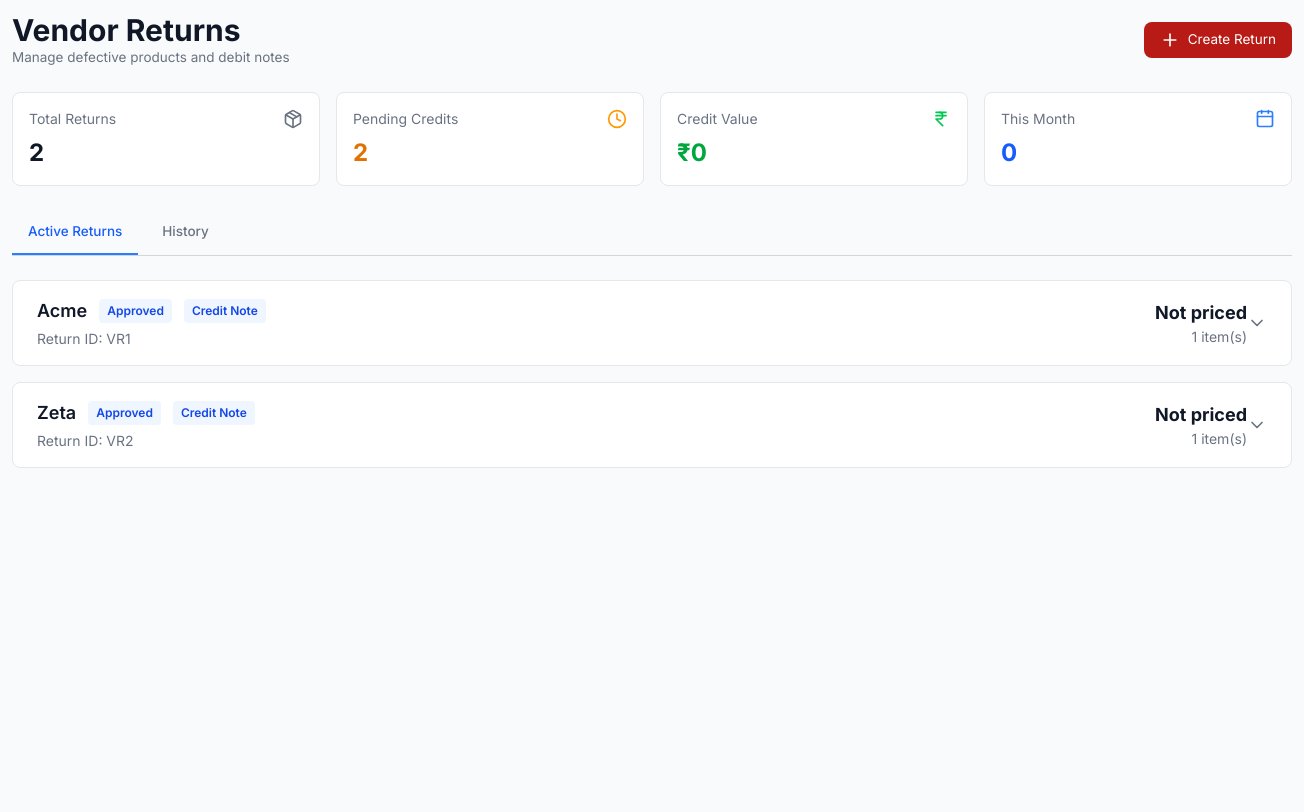
Test: the GST debit note on Vendor Returns › keeps the total, the Tally export and the issue button for ACCOUNTANT
Click the heading "Acme".
click(62, 311)  # box left=37, top=297, right=87, bottom=325
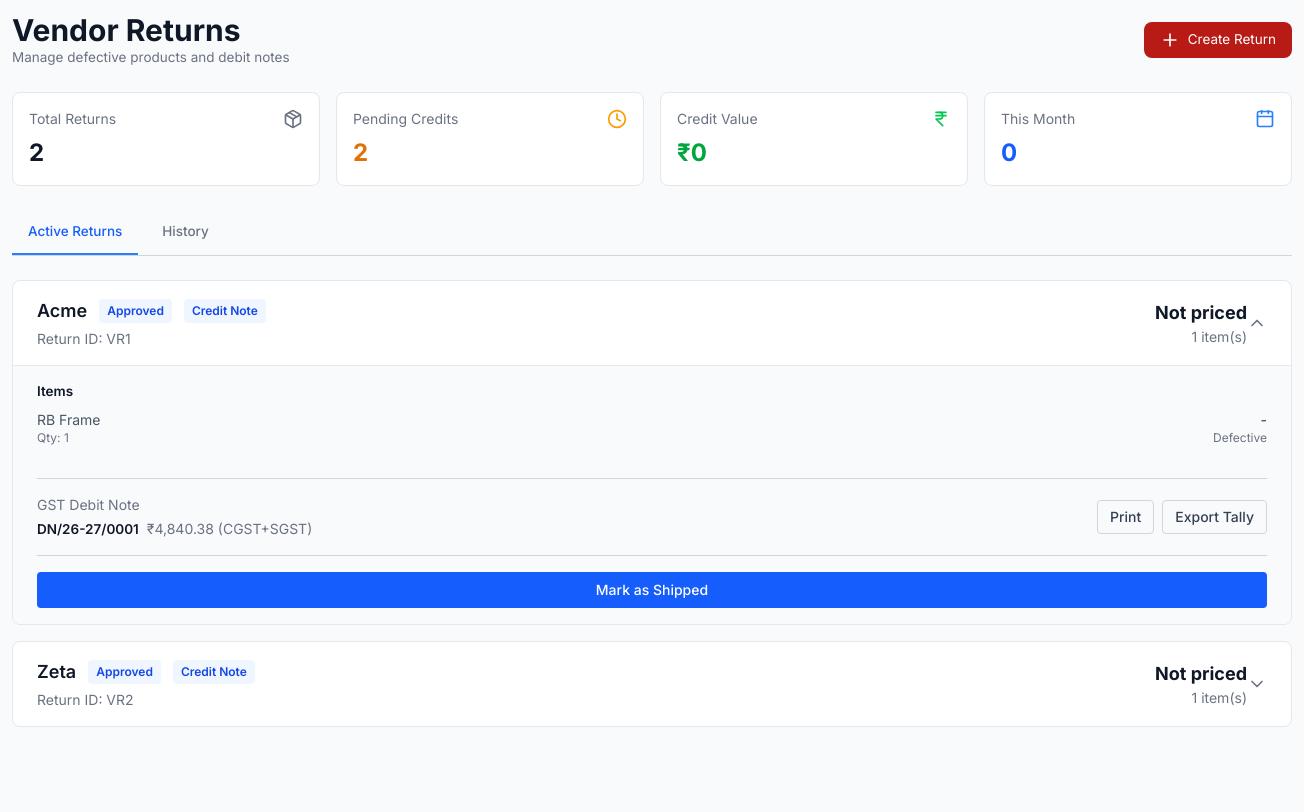
Result: the button "Export Tally" is shown at left=1162, top=500, right=1267, bottom=534
Result: the text "4,840.38" is shown at left=147, top=520, right=214, bottom=537
Click the heading "Zeta".
click(57, 672)  # box left=37, top=658, right=76, bottom=686
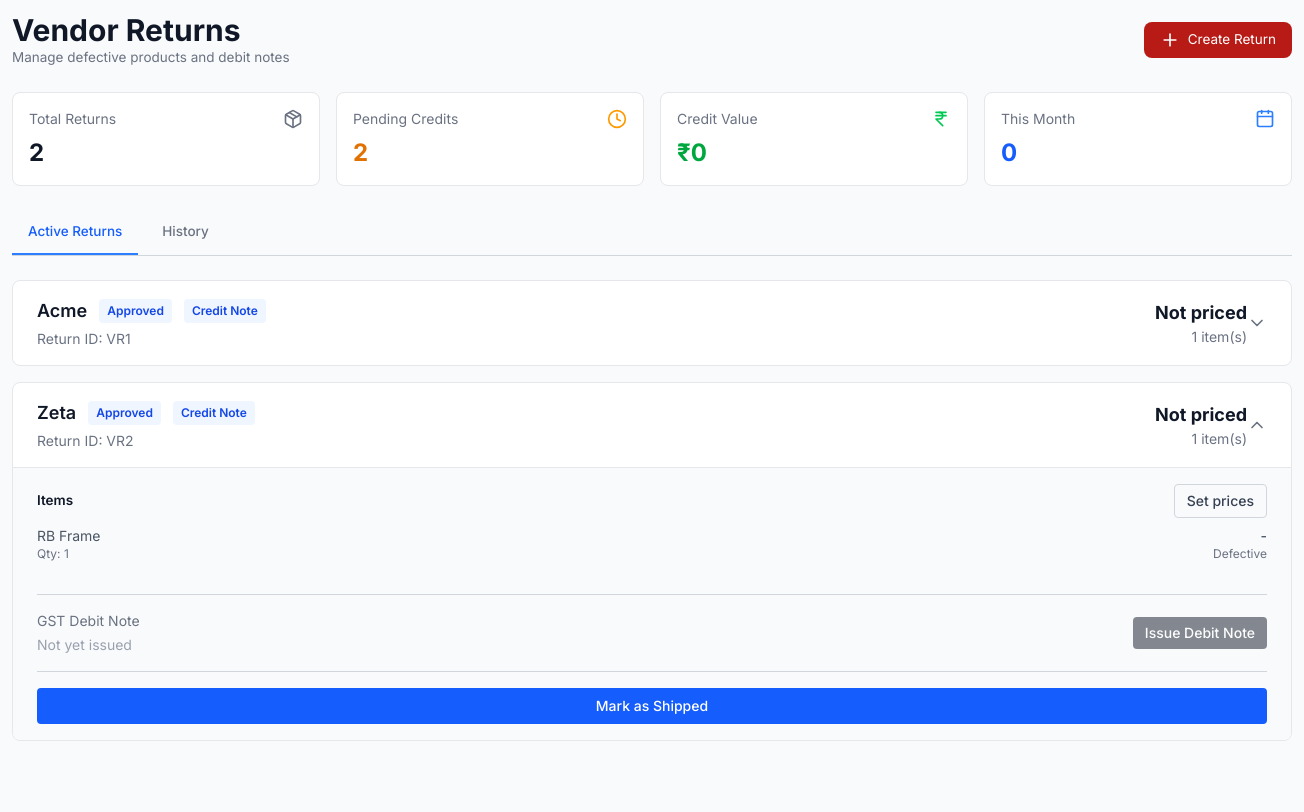
Result: the button "Issue Debit Note" is shown at left=1133, top=617, right=1267, bottom=649
